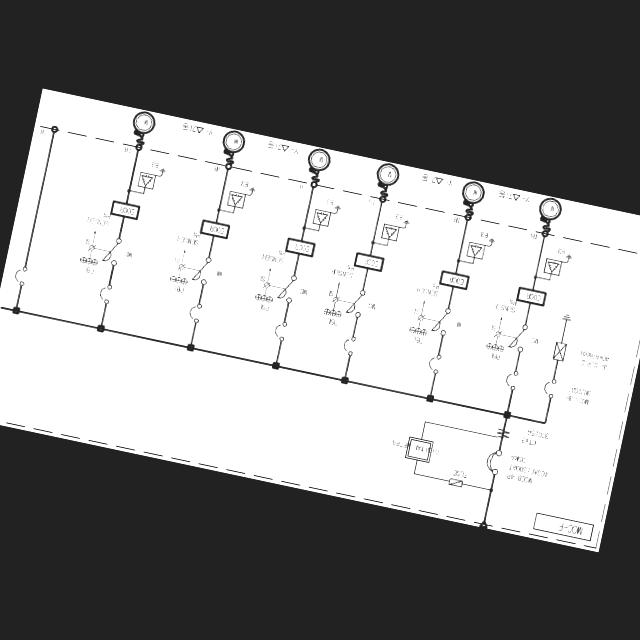CT: (493, 425, 510, 441)
GND: (560, 312, 572, 320), (332, 202, 342, 210), (564, 252, 574, 259), (487, 235, 496, 242), (158, 165, 166, 172), (402, 218, 410, 224), (248, 185, 256, 191)
SC: (383, 224, 397, 238), (314, 210, 328, 223), (468, 243, 482, 256), (546, 260, 560, 272), (230, 197, 236, 202), (146, 179, 152, 184), (140, 178, 146, 182), (144, 174, 150, 178), (236, 198, 240, 203), (234, 193, 238, 197)
VS: (496, 344, 504, 352), (490, 343, 498, 351), (420, 328, 428, 336), (414, 326, 422, 334), (408, 326, 416, 334), (328, 308, 336, 316), (322, 307, 330, 315), (90, 258, 98, 266), (334, 310, 341, 318), (266, 295, 273, 303), (260, 294, 267, 302), (254, 292, 261, 300), (169, 274, 176, 282), (85, 256, 92, 264), (79, 256, 86, 264), (485, 342, 492, 349), (175, 276, 182, 283), (180, 278, 188, 284)
